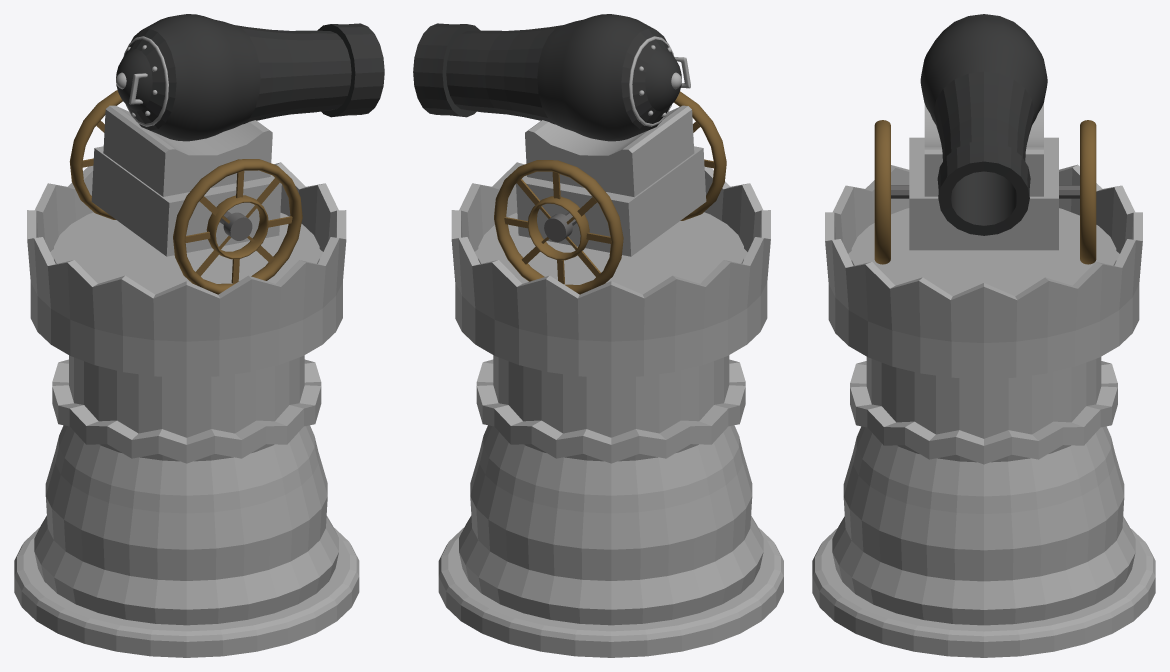
Rendered from Cannon_X.fbx.
3 renders of one model, left to right at view 1: azimuth 30°, elevation 25°; view 2: azimuth 150°, elevation 25°; view 3: azimuth 270°, elevation 25°, orthographic.
Visible parts, largest first — view 1: pCylinder4, pCube56, pCylinder5; view 2: pCylinder4, pCube56, pCylinder5; view 3: pCylinder4, pCube56, pCylinder5.
Part boxes in pixels (bbox=[...]): pCylinder4: bbox=[14, 162, 359, 657]; pCube56: bbox=[69, 14, 384, 294]; pCylinder5: bbox=[54, 212, 319, 294]; pCylinder4: bbox=[438, 162, 783, 657]; pCube56: bbox=[413, 14, 726, 294]; pCylinder5: bbox=[478, 212, 743, 294]; pCylinder4: bbox=[812, 164, 1155, 657]; pCube56: bbox=[874, 14, 1096, 264]; pCylinder5: bbox=[851, 208, 1116, 296].
Bounding box in the file's own units: 390 × 635 × 352.
